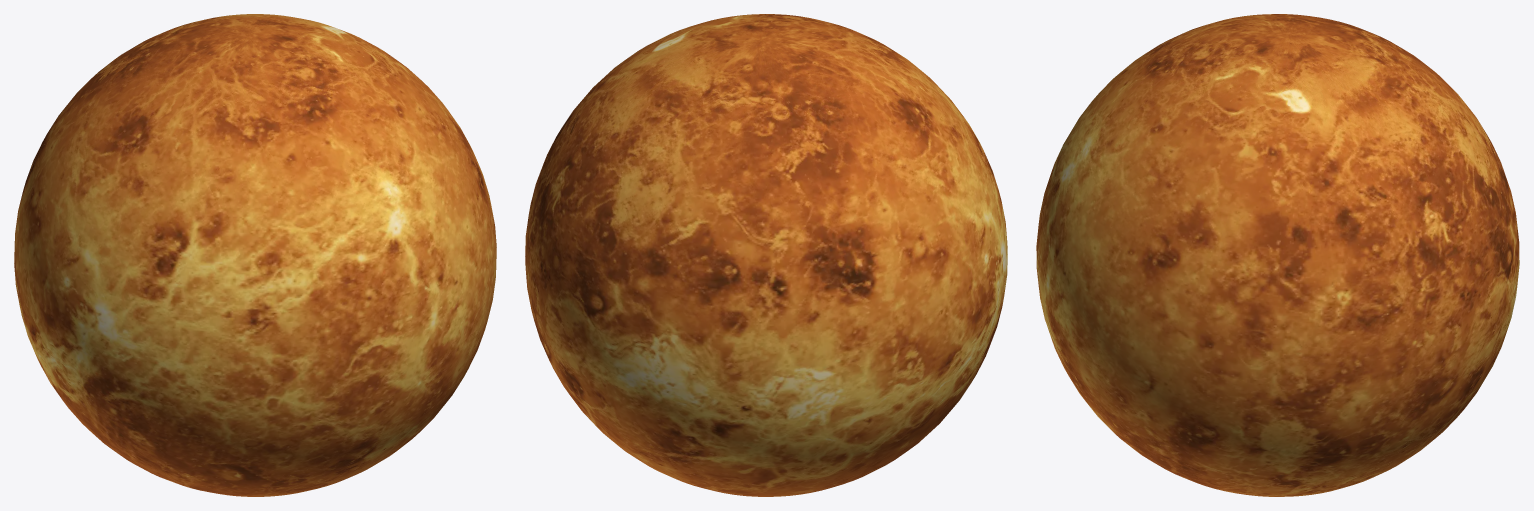
Rendered from Venus.glb.
The picture shows the model from 3 angles, left to right: view 1: azimuth 30°, elevation 25°; view 2: azimuth 150°, elevation 25°; view 3: azimuth 270°, elevation 25°; orthographic projection.
Parts seen in each view (by area): view 1: Venus; view 2: Venus; view 3: Venus.
Boxes of the visible parts, x1,y1,x2,y2 form: Venus: (14,14,496,496); Venus: (525,14,1007,496); Venus: (1036,14,1519,496).
Bounding box in the file's own units: 1.9 × 1.9 × 1.9.
1 material, 1 textured.
